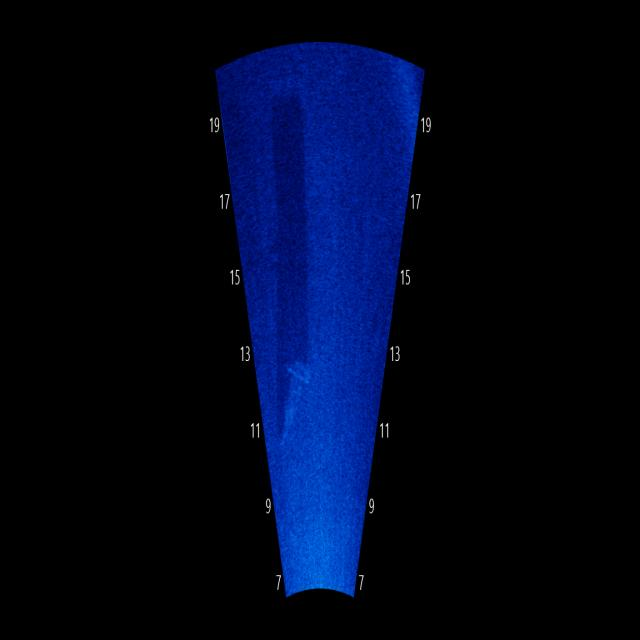triangle: (276, 340, 314, 452)
